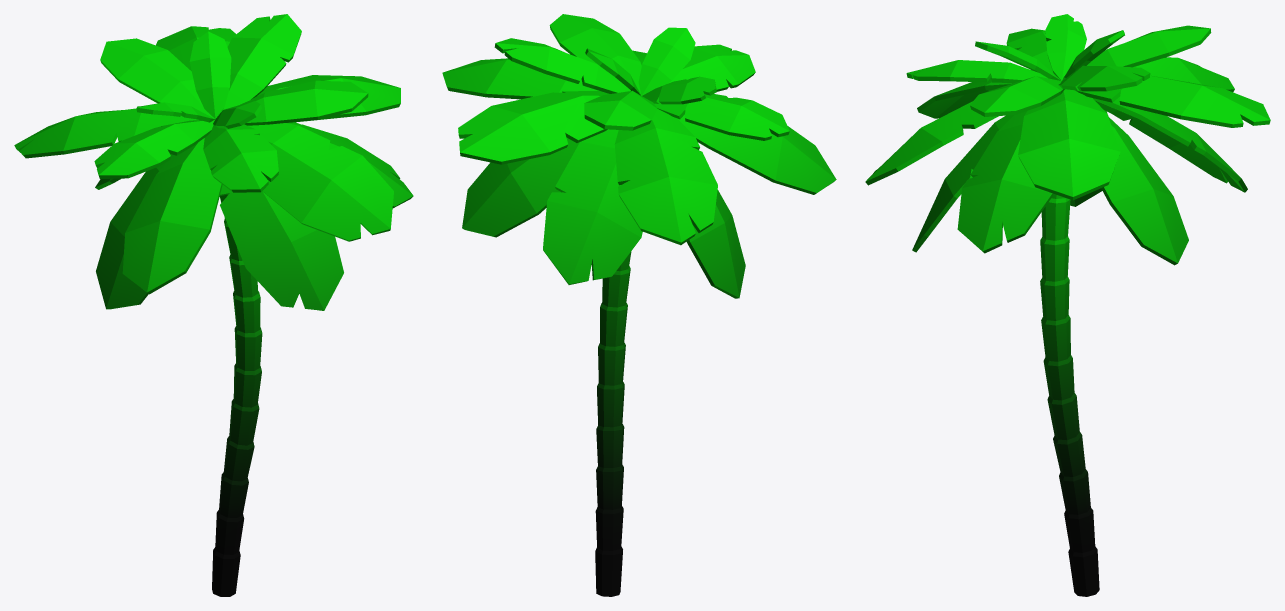
Rendered from SM_Tree_Palm_03.fbx.
3 views of the same model, side by side, from view 1: azimuth 30°, elevation 25°; view 2: azimuth 150°, elevation 25°; view 3: azimuth 270°, elevation 25° (orthographic). The views are drawn at different scales.
Parts seen in each view (by area): view 1: SM_Tree_Palm_03_LOD0; view 2: SM_Tree_Palm_03_LOD0; view 3: SM_Tree_Palm_03_LOD0.
Boxes of the visible parts, x1,y1,x2,y2 form: SM_Tree_Palm_03_LOD0: (14,14,413,596); SM_Tree_Palm_03_LOD0: (442,14,836,596); SM_Tree_Palm_03_LOD0: (865,14,1270,596).
Bounding box in the file's own units: 405 × 653 × 426.
